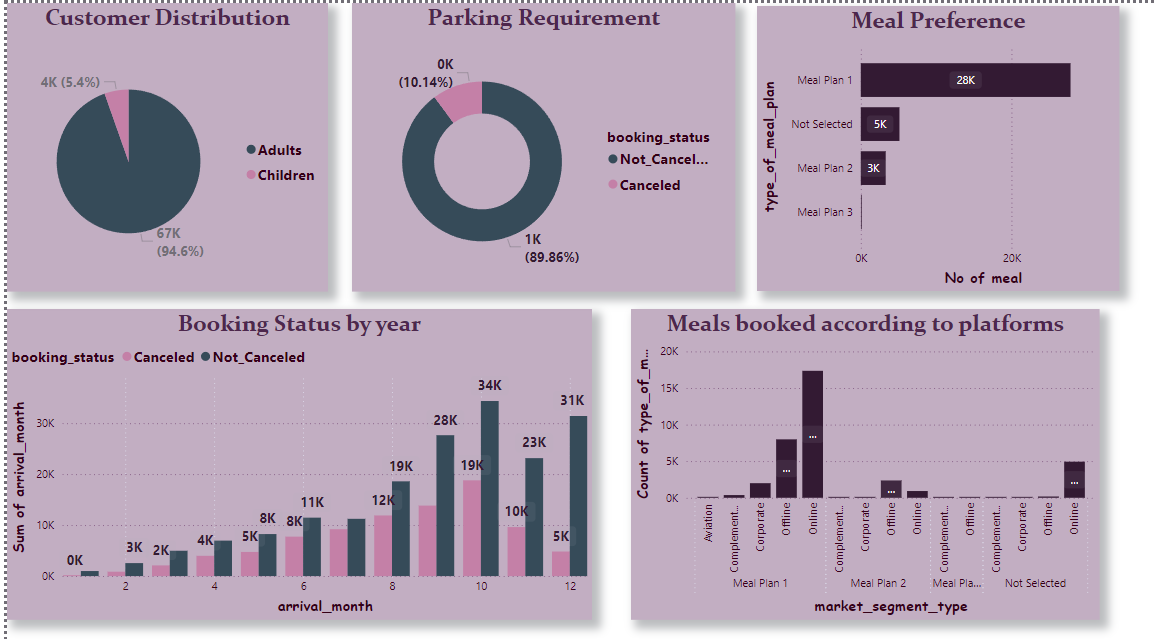

Layout of this report page (visuals, bound fields, positions):
{"tool":"powerbi","page":{"name":"Page 2","canvas":[1280,720],"ordinal":1},"visuals":[{"type":"clusteredColumnChart","title":"Booking Status by year","fields":{"Category":["Hotel Reservations.arrival_month"],"Y":["Sum(Hotel Reservations.arrival_month)"],"Series":["Hotel Reservations.booking_status"]},"box":[0,339.9,649.7,345.4],"z":1000},{"type":"donutChart","title":"Parking Requirement","fields":{"Category":["Hotel Reservations.booking_status"],"Y":["Sum(Hotel Reservations.required_car_parking_space)"]},"box":[383.8,0,426.3,320.8],"z":2000},{"type":"barChart","title":"Meal Preference","fields":{"Category":["Hotel Reservations.type_of_meal_plan"],"Y":["CountNonNull(Hotel Reservations.type_of_meal_plan)"]},"box":[833.4,4.1,403,316.6],"z":3000},{"type":"pieChart","title":"Customer Distribution","fields":{"Y":["Sum(Hotel Reservations.no_of_adults)","Sum(Hotel Reservations.no_of_children)"]},"box":[0,0,356.4,320.8],"z":4000},{"type":"clusteredColumnChart","title":"Meals booked according to platforms","fields":{"Category":["Hotel Reservations.type_of_meal_plan","Hotel Reservations.market_segment_type"],"Y":["CountNonNull(Hotel Reservations.type_of_meal_plan)"]},"box":[693.6,339.9,520.9,345.4],"z":5000}]}

Visuals, with their boxes in screenshot pixels (x1, y1, x2, y2), scaled from the page's 1280x720 canvas onto the 1155x640 screenshot:
"Booking Status by year" clusteredColumnChart: 0/302/586/609
"Parking Requirement" donutChart: 346/0/731/285
"Meal Preference" barChart: 752/4/1116/285
"Customer Distribution" pieChart: 0/0/322/285
"Meals booked according to platforms" clusteredColumnChart: 626/302/1096/609
